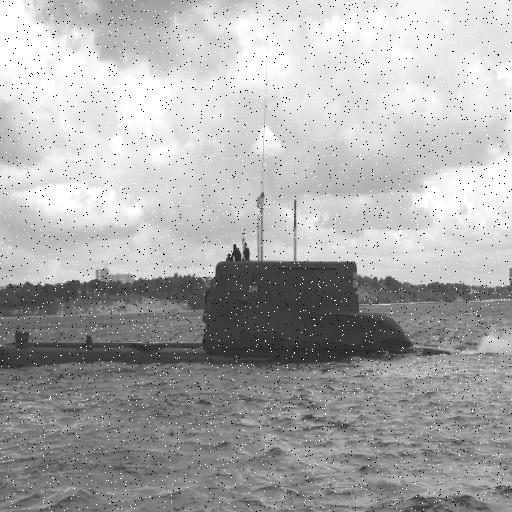submarine: (1, 259, 455, 357)
